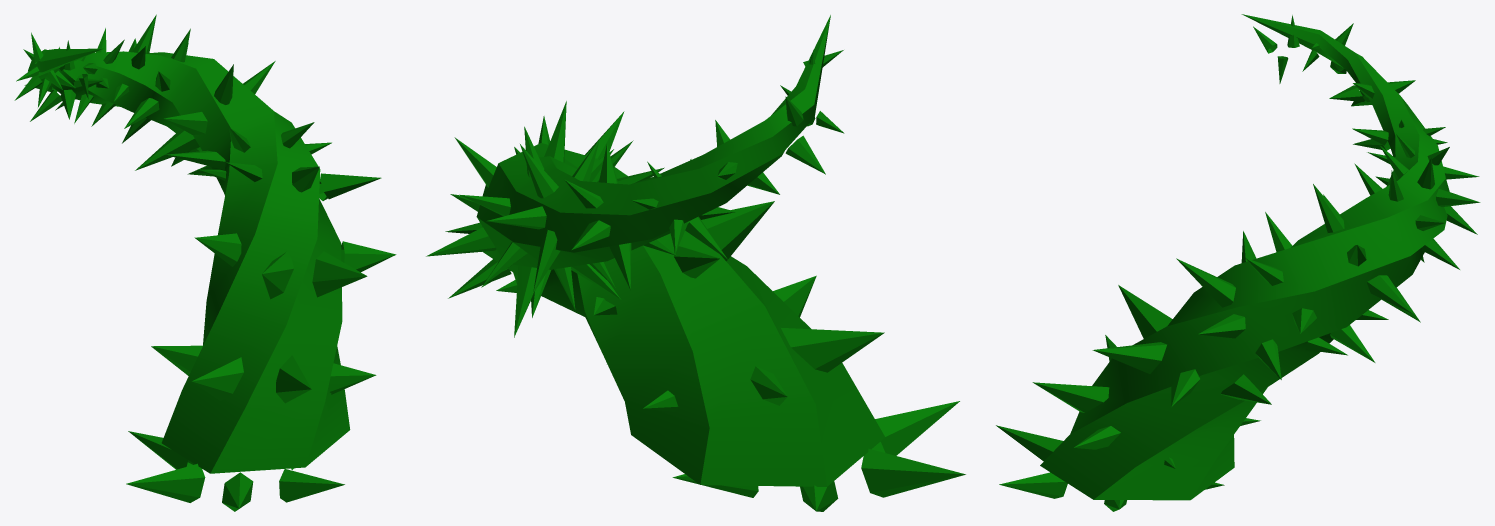
The model's file is Mesh_Espinas_V01.fbx.
3 views of the same model, side by side, from view 1: azimuth 30°, elevation 25°; view 2: azimuth 150°, elevation 25°; view 3: azimuth 270°, elevation 25° (orthographic). The views are drawn at different scales.
Parts seen in each view (by area): view 1: Mesh_Tallo_V2, Mesh_Espinas_V1_245, Mesh_Espinas_V1_232, Mesh_Espinas_V1_243, Mesh_Espinas_V1_239, Mesh_Espinas_V1_238, Mesh_Espinas_V1_231, Mesh_Espinas_V1_233, Mesh_Espinas_V1_234, Mesh_Espinas_V1_212, Mesh_Espinas_V1_226, Mesh_Espinas_V1_244 (+8 smaller); view 2: Mesh_Tallo_V2, Mesh_Espinas_V1_245, Mesh_Espinas_V1_239, Mesh_Espinas_V1_244, Mesh_Espinas_V1_233, Mesh_Espinas_V1_214, Mesh_Espinas_V1_213, Mesh_Espinas_V1_234, Mesh_Espinas_V1_240, Mesh_Espinas_V1_238, Mesh_Espinas_V1_246, Mesh_Espinas_V1_202 (+6 smaller); view 3: Mesh_Tallo_V2, Mesh_Espinas_V1_232, Mesh_Espinas_V1_238, Mesh_Espinas_V1_233, Mesh_Espinas_V1_243, Mesh_Espinas_V1_227, Mesh_Espinas_V1_244, Mesh_Espinas_V1_214, Mesh_Espinas_V1_230, Mesh_Espinas_V1_226, Mesh_Espinas_V1_231, Mesh_Espinas_V1_237 (+3 smaller).
Boxes of the visible parts, <box> form: Mesh_Tallo_V2: <box>28,48,350,473</box>; Mesh_Espinas_V1_245: <box>126,463,205,502</box>; Mesh_Espinas_V1_232: <box>312,251,367,297</box>; Mesh_Espinas_V1_243: <box>279,469,344,502</box>; Mesh_Espinas_V1_239: <box>192,357,243,400</box>; Mesh_Espinas_V1_238: <box>276,355,311,403</box>; Mesh_Espinas_V1_231: <box>341,241,396,272</box>; Mesh_Espinas_V1_233: <box>262,252,293,299</box>; Mesh_Espinas_V1_234: <box>194,233,241,266</box>; Mesh_Espinas_V1_212: <box>135,129,199,170</box>; Mesh_Espinas_V1_226: <box>320,173,381,199</box>; Mesh_Espinas_V1_244: <box>222,472,253,511</box>; Mesh_Tallo_V2: <box>476,15,885,486</box>; Mesh_Espinas_V1_245: <box>861,448,965,497</box>; Mesh_Espinas_V1_239: <box>781,328,884,372</box>; Mesh_Espinas_V1_244: <box>872,401,959,455</box>; Mesh_Espinas_V1_233: <box>691,201,774,261</box>; Mesh_Espinas_V1_214: <box>426,227,496,256</box>; Mesh_Espinas_V1_213: <box>514,265,536,337</box>; Mesh_Espinas_V1_234: <box>673,246,719,278</box>; Mesh_Espinas_V1_240: <box>750,366,787,405</box>; Mesh_Espinas_V1_238: <box>773,275,816,317</box>; Mesh_Espinas_V1_246: <box>800,481,838,511</box>; Mesh_Espinas_V1_202: <box>533,230,560,293</box>; Mesh_Tallo_V2: <box>1040,14,1449,500</box>; Mesh_Espinas_V1_232: <box>1092,342,1166,373</box>; Mesh_Espinas_V1_238: <box>1032,382,1109,412</box>; Mesh_Espinas_V1_233: <box>1118,285,1172,338</box>; Mesh_Espinas_V1_243: <box>999,472,1067,498</box>; Mesh_Espinas_V1_227: <box>1176,258,1235,307</box>; Mesh_Espinas_V1_244: <box>996,425,1063,461</box>; Mesh_Espinas_V1_214: <box>1367,275,1413,314</box>; Mesh_Espinas_V1_230: <box>1221,374,1271,404</box>; Mesh_Espinas_V1_226: <box>1198,314,1245,338</box>; Mesh_Espinas_V1_231: <box>1171,369,1200,406</box>; Mesh_Espinas_V1_237: <box>1074,426,1120,449</box>.
Size of the model in its own units: 2279 by 2825 by 2838.
